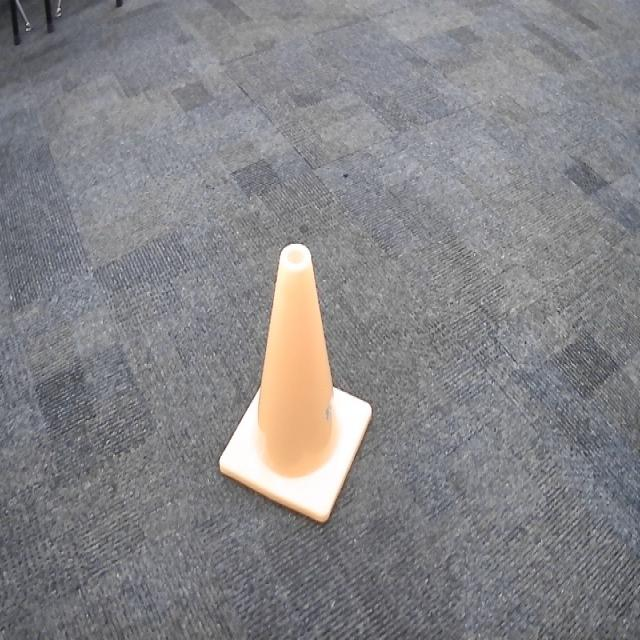cone: (218, 244, 375, 528)
